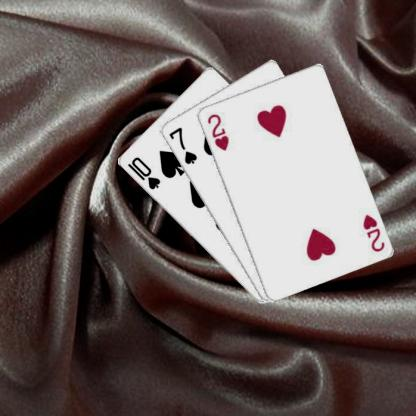10S: (124, 154, 162, 191)
2H: (204, 111, 230, 152), (360, 212, 386, 253)
7S: (166, 124, 198, 166)
